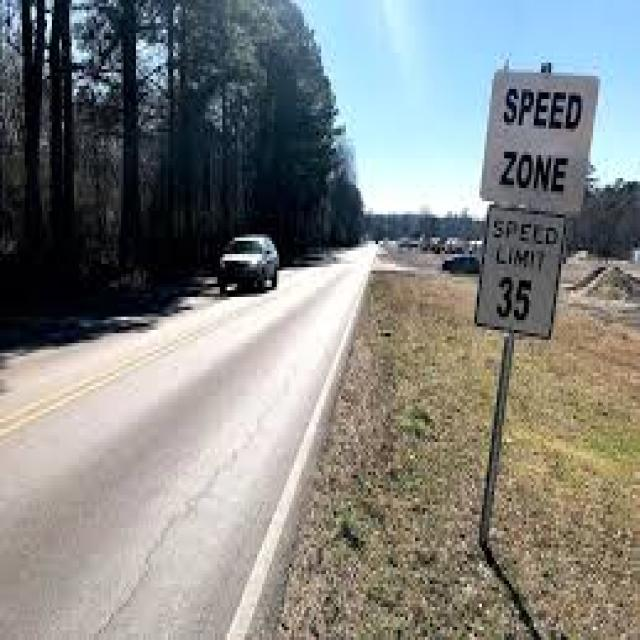speedLimit35: (477, 201, 558, 363)
